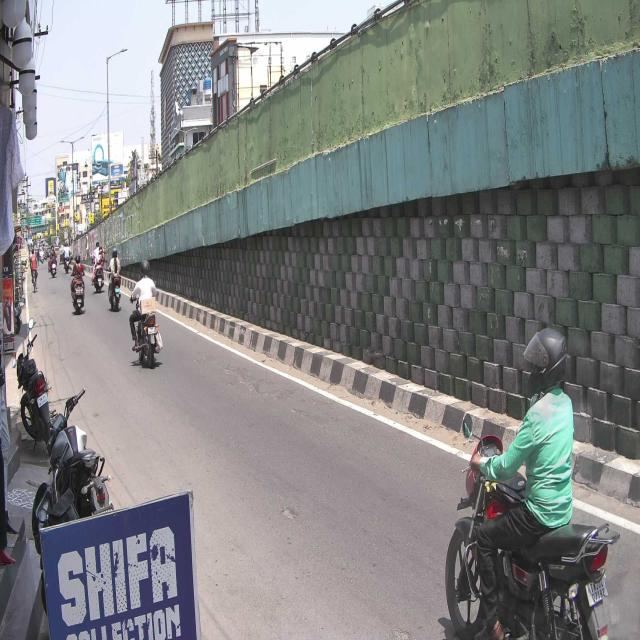single_rider: (444, 324, 619, 640)
